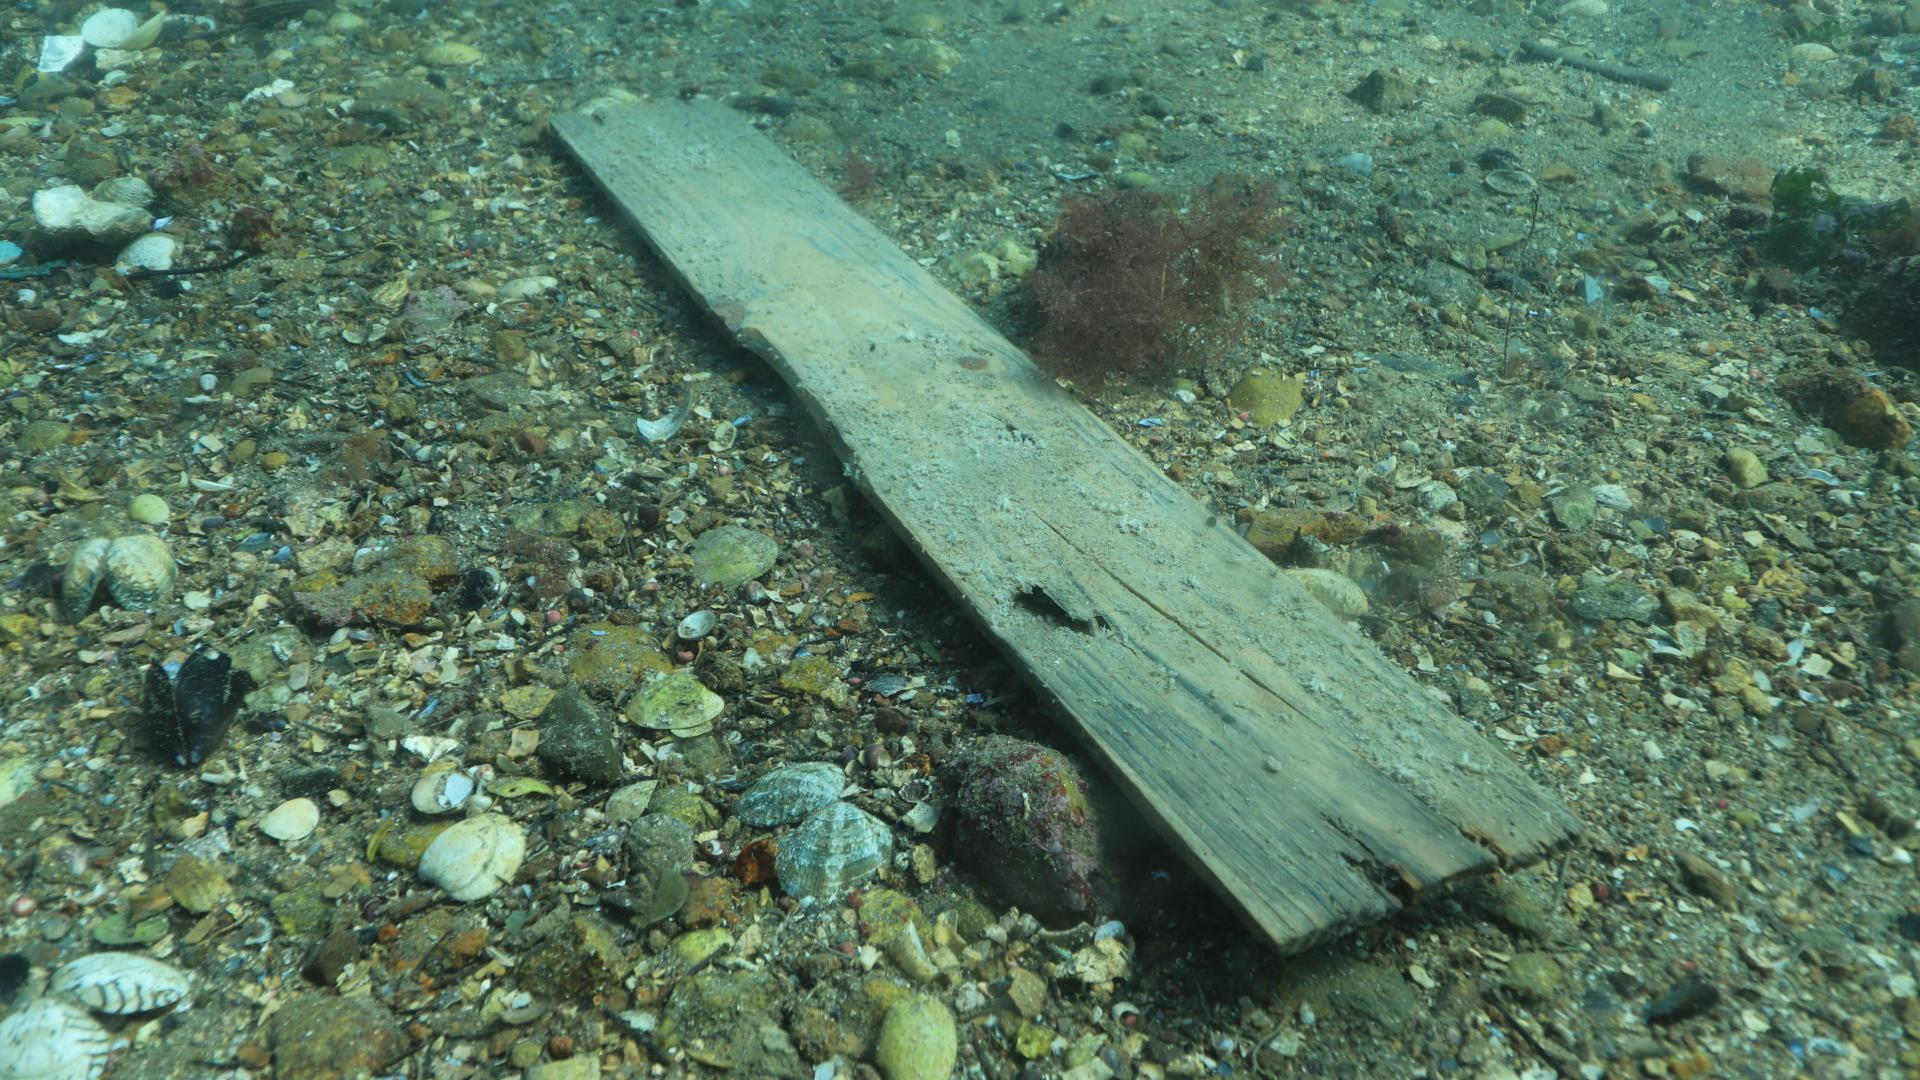wood: (545, 94, 1589, 959)
